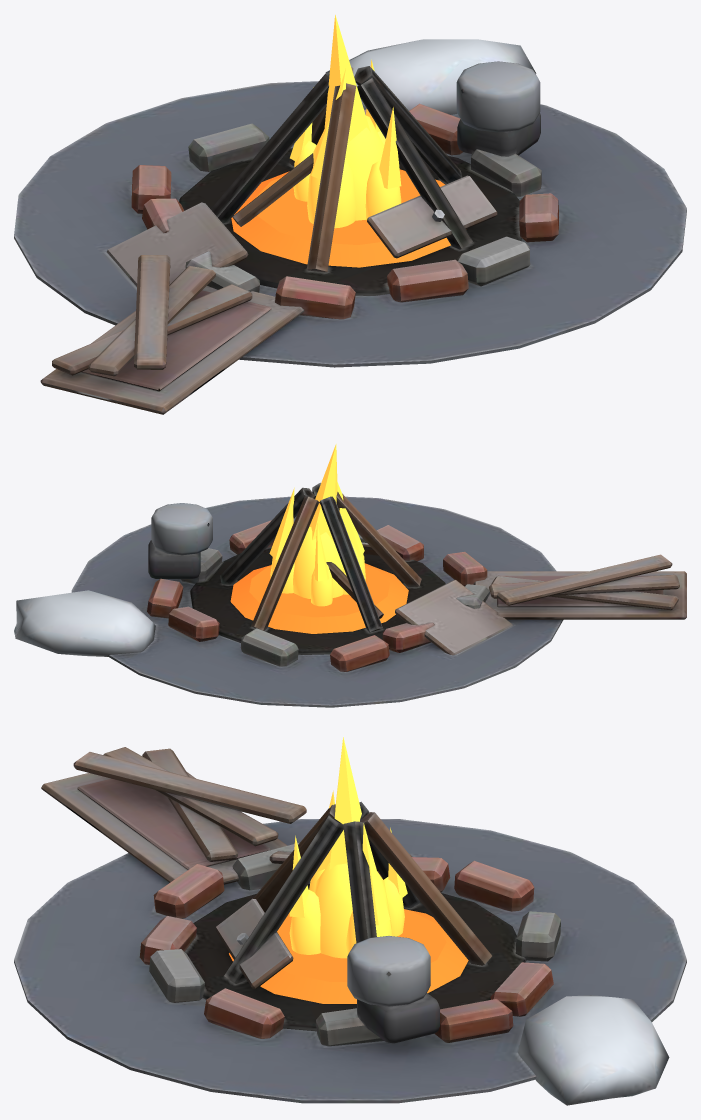
The model's file is fire_pit.glb.
3 renders of one model, top to bottom at view 1: azimuth 30°, elevation 25°; view 2: azimuth 150°, elevation 25°; view 3: azimuth 270°, elevation 25°, orthographic. The views are drawn at different scales.
Parts seen in each view (by area): view 1: fire_pit, fire_pit_glow; view 2: fire_pit, fire_pit_glow; view 3: fire_pit, fire_pit_glow.
Boxes of the visible parts, x1,y1,x2,y2 form: fire_pit: (14,39,686,414); fire_pit_glow: (231,15,450,267); fire_pit: (14,482,686,707); fire_pit_glow: (230,444,408,633); fire_pit: (14,747,686,1105); fire_pit_glow: (229,737,468,1003).
Size of the model in its own units: 2.5 by 0.9023 by 2.1.
3 materials, 1 textured.
